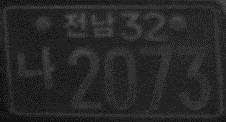0: (104, 45, 138, 115)
2: (64, 47, 104, 114), (142, 10, 167, 44)
3: (175, 41, 216, 114), (118, 10, 142, 44)
7: (138, 44, 175, 113)
나: (16, 43, 58, 91)
전남_O: (62, 10, 117, 40)
